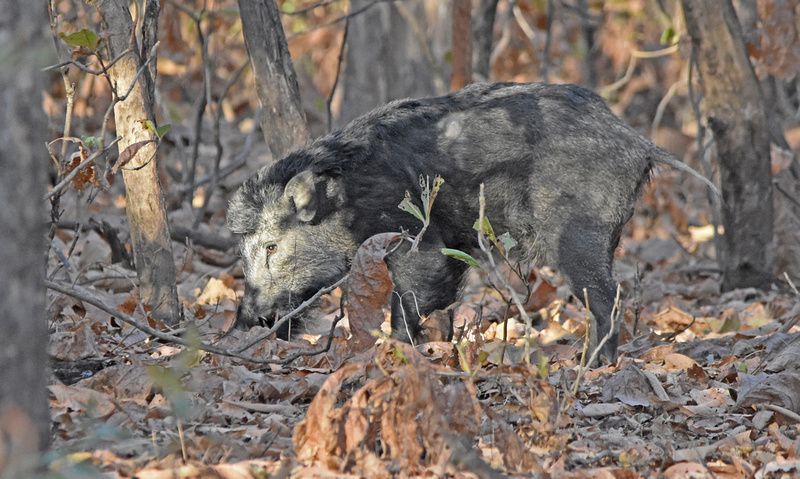wild boar: (218, 77, 733, 372)
